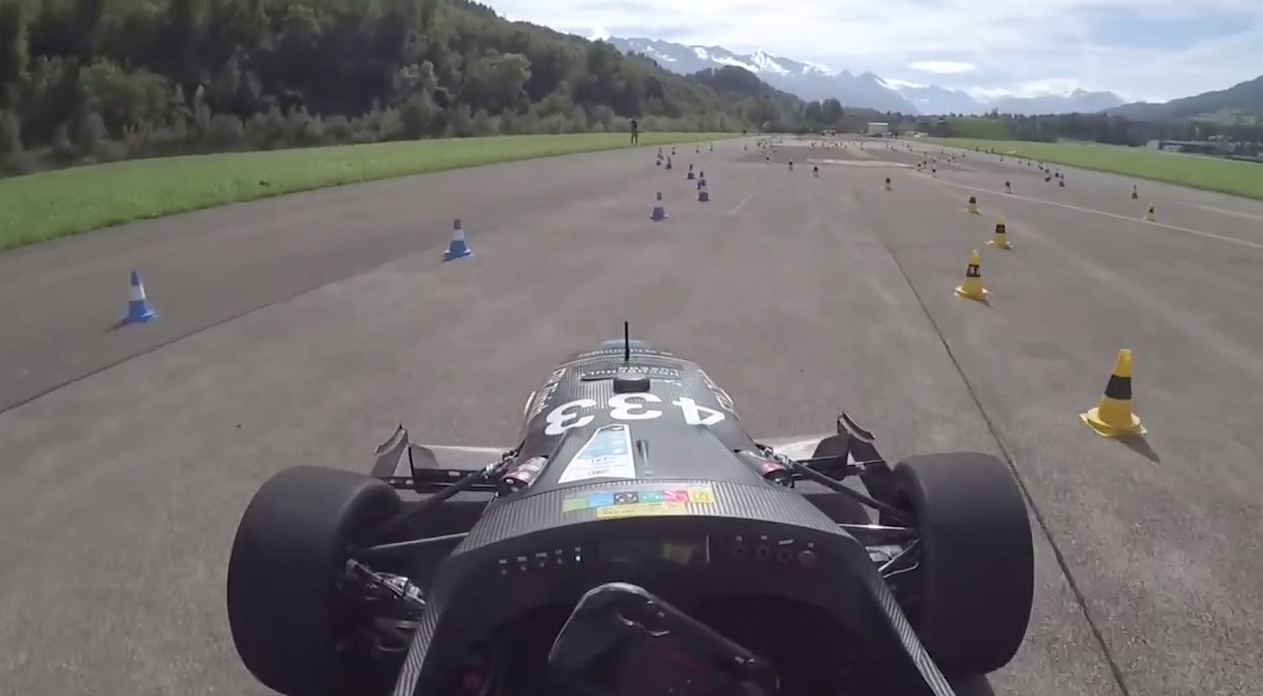lcone: (109, 264, 165, 330), (438, 212, 476, 264), (645, 186, 671, 222)
rcone: (1073, 343, 1152, 444), (947, 245, 991, 305), (984, 210, 1018, 250)
